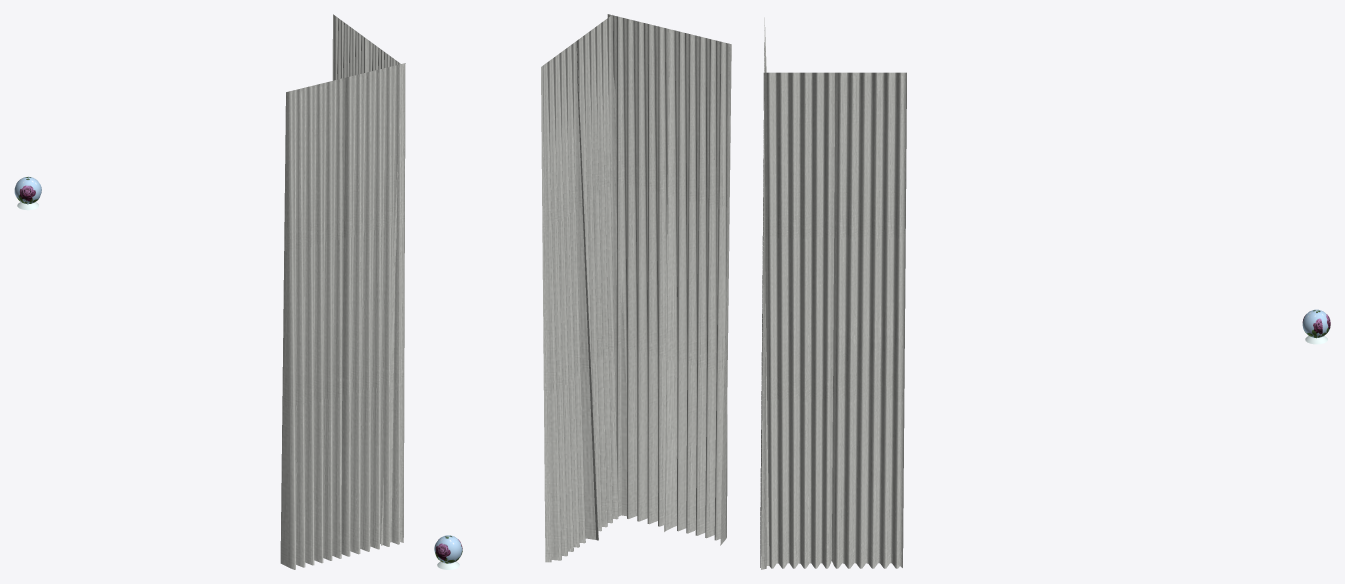
The model's file is Cortina_y_esfera.obj.
3 renders of one model, left to right at view 1: azimuth 30°, elevation 25°; view 2: azimuth 150°, elevation 25°; view 3: azimuth 270°, elevation 25°, orthographic. The views are drawn at different scales.
Visible parts, largest first — view 1: group pasted__pasted__CORTINA_MOVIBLE2, pasted__pasted__CORTINA_MOVIBLE1 group, group pasted__group14 pasted__pasted__pSphere2; view 2: group pasted__pasted__CORTINA_MOVIBLE2, pasted__pasted__CORTINA_MOVIBLE1 group, group pasted__group14 pasted__pasted__pSphere2; view 3: pasted__pasted__CORTINA_MOVIBLE1 group, group pasted__pasted__CORTINA_MOVIBLE2.
Part boxes in pixels (x1,y1,x2,y2): group pasted__pasted__CORTINA_MOVIBLE2: (280,63,405,569); pasted__pasted__CORTINA_MOVIBLE1 group: (332,14,401,545); group pasted__group14 pasted__pasted__pSphere2: (14,176,41,204); group pasted__pasted__CORTINA_MOVIBLE2: (607,14,731,545); pasted__pasted__CORTINA_MOVIBLE1 group: (541,15,626,562); group pasted__group14 pasted__pasted__pSphere2: (434,535,462,563); pasted__pasted__CORTINA_MOVIBLE1 group: (763,72,906,568); group pasted__pasted__CORTINA_MOVIBLE2: (760,17,769,569).
Bounding box in the file's own units: 0.9143 × 3.37 × 3.5.
Materials: 3 (3 with a texture image).
